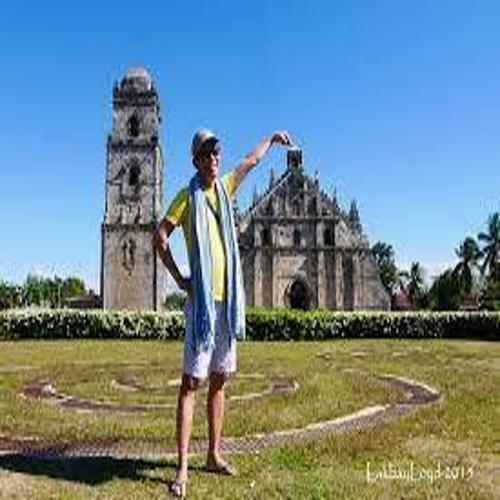Paoay Church: (86, 55, 408, 333)
